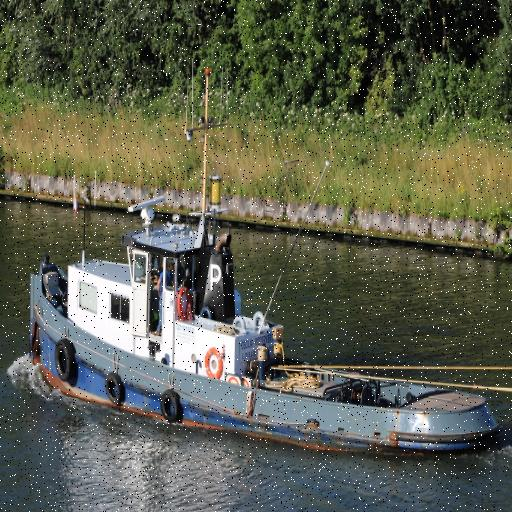tugboat: (22, 173, 506, 481)
